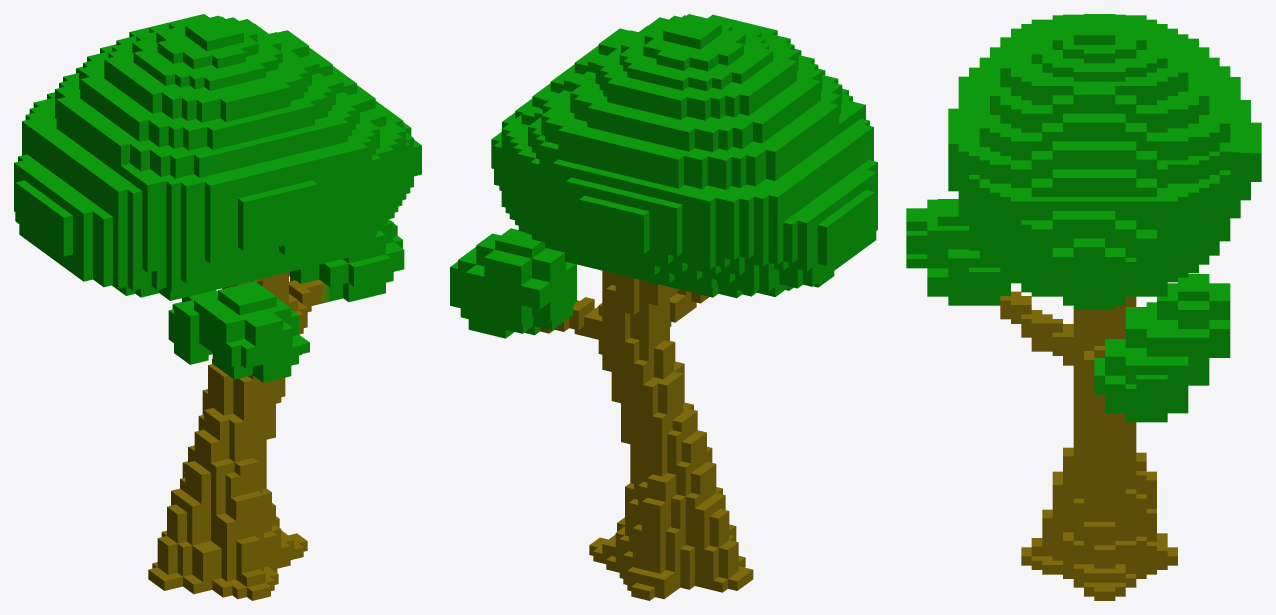
File: RegularTree_One.fbx
The picture shows the model from 3 angles, left to right: view 1: azimuth 30°, elevation 25°; view 2: azimuth 150°, elevation 25°; view 3: azimuth 270°, elevation 25°; orthographic projection. The views are drawn at different scales.
Parts seen in each view (by area): view 1: Tree_Ver2_2; view 2: Tree_Ver2_2; view 3: Tree_Ver2_2.
Part boxes in pixels (x1=…): Tree_Ver2_2: x1=14, y1=14, x2=421, y2=600; Tree_Ver2_2: x1=450, y1=14, x2=877, y2=600; Tree_Ver2_2: x1=906, y1=14, x2=1261, y2=600.
Size of the model in its own units: 40 by 56 by 34.
Materials: 1 (1 with a texture image).
